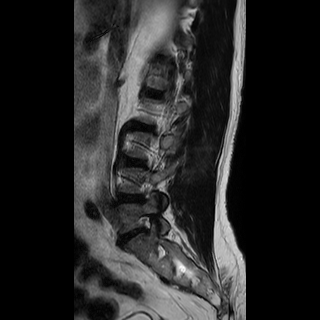RFS0: (131, 209, 161, 240)
